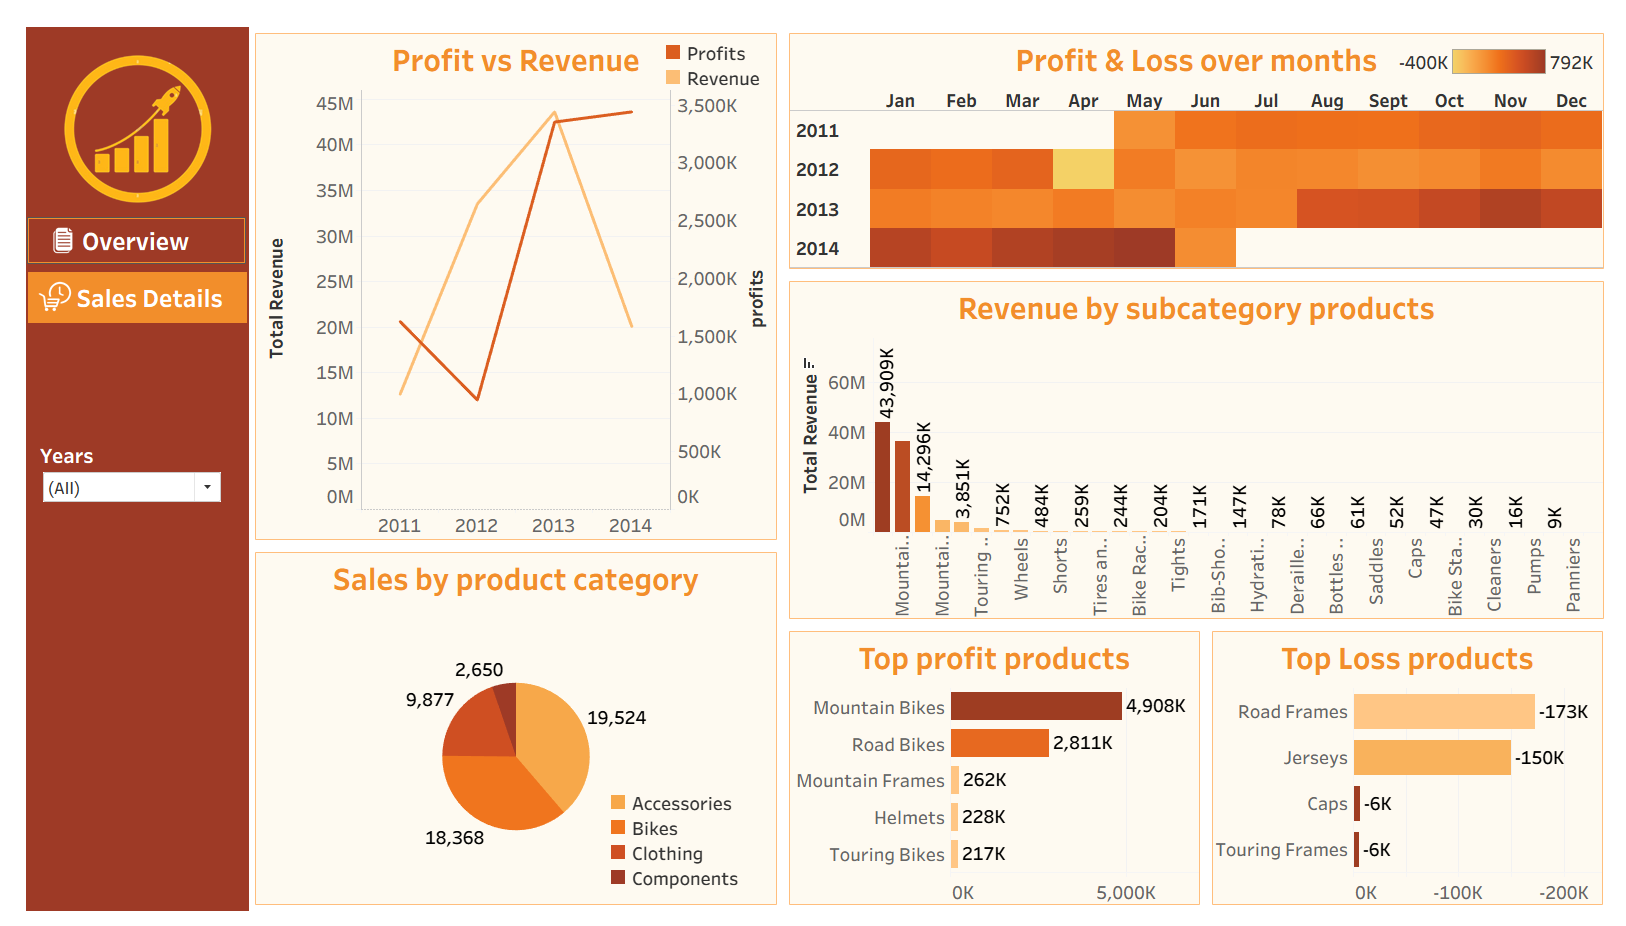

This screenshot's page, from the dashboard's own definition file:
{"tool":"tableau","page":{"name":"Sales Details","canvas":[1600,900],"ordinal":1},"visuals":[{"type":"legend","title":"Profit & Loss over months","param":"[federated.06kw8yd0rvrepq1g4vn700ennon1].[sum:Calculation_273030789590962195:qk]","box":[1377,0,203,100]},{"type":"worksheet","title":"Profit vs Revenue","mark":"Line","rows":["LineTotal","Calculation_273030789590962195"],"cols":["OrderDate"],"box":[231,8,534,519]},{"type":"worksheet","title":"Profit & Loss over months","mark":"Square","rows":["OrderDate"],"cols":["OrderDate"],"box":[765,8,827,248]},{"type":"dashboard-object","box":[9,198,219,47]},{"type":"image","param":"C:/Users/vshivani/Desktop/shivani/Tableau/4. sales analysis(ssms)/images/overvie","box":[26,202,37,39]},{"type":"dashboard-object","box":[10,253,219,51]},{"type":"worksheet","title":"Revenue by subcategory products","mark":"Automatic","rows":["LineTotal"],"cols":["Name (Production.ProductSubcategory)"],"box":[765,256,827,350]},{"type":"image","param":"C:/Users/vshivani/Desktop/shivani/Tableau/4. sales analysis(ssms)/images/order_d","box":[10,260,53,44]},{"type":"filter","title":"Profit vs Revenue","param":"[federated.06kw8yd0rvrepq1g4vn700ennon1].[yr:OrderDate:ok]","box":[22,422,184,81]},{"type":"worksheet","title":"Sales by product category","mark":"Pie","box":[231,527,534,365]},{"type":"worksheet","title":"Top profit products","mark":"Automatic","rows":["Name (Production.ProductSubcategory)"],"cols":["Calculation_273030789590962195"],"box":[765,606,423.5,286]},{"type":"worksheet","title":"Top Loss products","mark":"Bar","rows":["Name (Production.ProductSubcategory)"],"cols":["Calculation_273030789590962195"],"box":[1188.5,606,403.5,286]},{"type":"legend","title":"Sales by product category","param":"[federated.06kw8yd0rvrepq1g4vn700ennon1].[none:Name (Production.ProductCategory)","box":[588,745,158,126]}]}

Visuals, with their boxes in screenshot pixels (x1, y1, x2, y2), scaled from the page's 1600x900 canvas onto the 1626x926 screenshot:
"Profit & Loss over months" legend: left=1399, top=0, right=1606, bottom=103
"Profit vs Revenue" worksheet (Line marks): left=235, top=8, right=777, bottom=542
"Profit & Loss over months" worksheet (Square marks): left=777, top=8, right=1618, bottom=263
dashboard-object: left=9, top=204, right=232, bottom=252
image: left=26, top=208, right=64, bottom=248
dashboard-object: left=10, top=260, right=233, bottom=313
"Revenue by subcategory products" worksheet: left=777, top=263, right=1618, bottom=624
image: left=10, top=268, right=64, bottom=313
"Profit vs Revenue" filter: left=22, top=434, right=209, bottom=518
"Sales by product category" worksheet (Pie marks): left=235, top=542, right=777, bottom=918
"Top profit products" worksheet: left=777, top=624, right=1208, bottom=918
"Top Loss products" worksheet (Bar marks): left=1208, top=624, right=1618, bottom=918
"Sales by product category" legend: left=598, top=767, right=758, bottom=896
